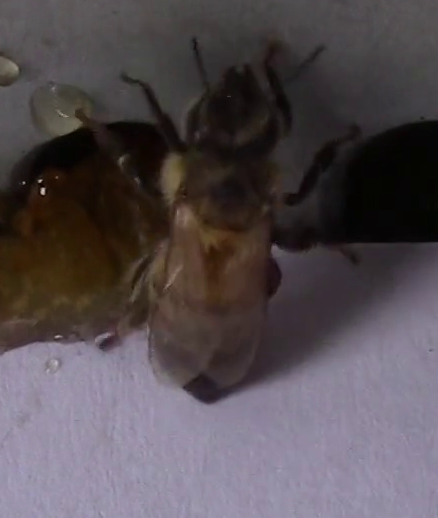Varroa destructor: (260, 250, 285, 298)
